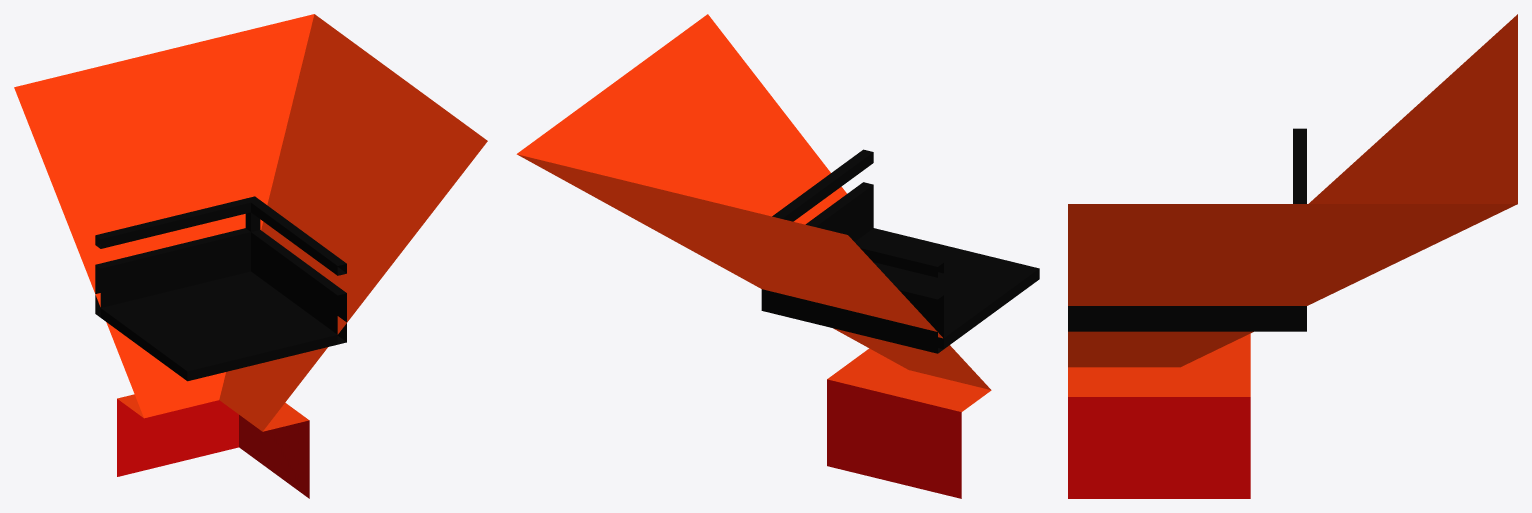
3 renders of one model, left to right at view 1: azimuth 30°, elevation 25°; view 2: azimuth 150°, elevation 25°; view 3: azimuth 270°, elevation 25°, orthographic. The views are drawn at different scales.
Visible parts, largest first — view 1: None_S_S_E_E_S_P_E_E_None; view 2: None_S_S_E_E_S_P_E_E_None; view 3: None_S_S_E_E_S_P_E_E_None.
Boxes of the visible parts, box(x1,y1,x2,y2) form: None_S_S_E_E_S_P_E_E_None: box(14, 14, 487, 498); None_S_S_E_E_S_P_E_E_None: box(516, 14, 1039, 498); None_S_S_E_E_S_P_E_E_None: box(1068, 14, 1517, 498).
Bounding box in the file's own units: 100 × 100 × 100.
